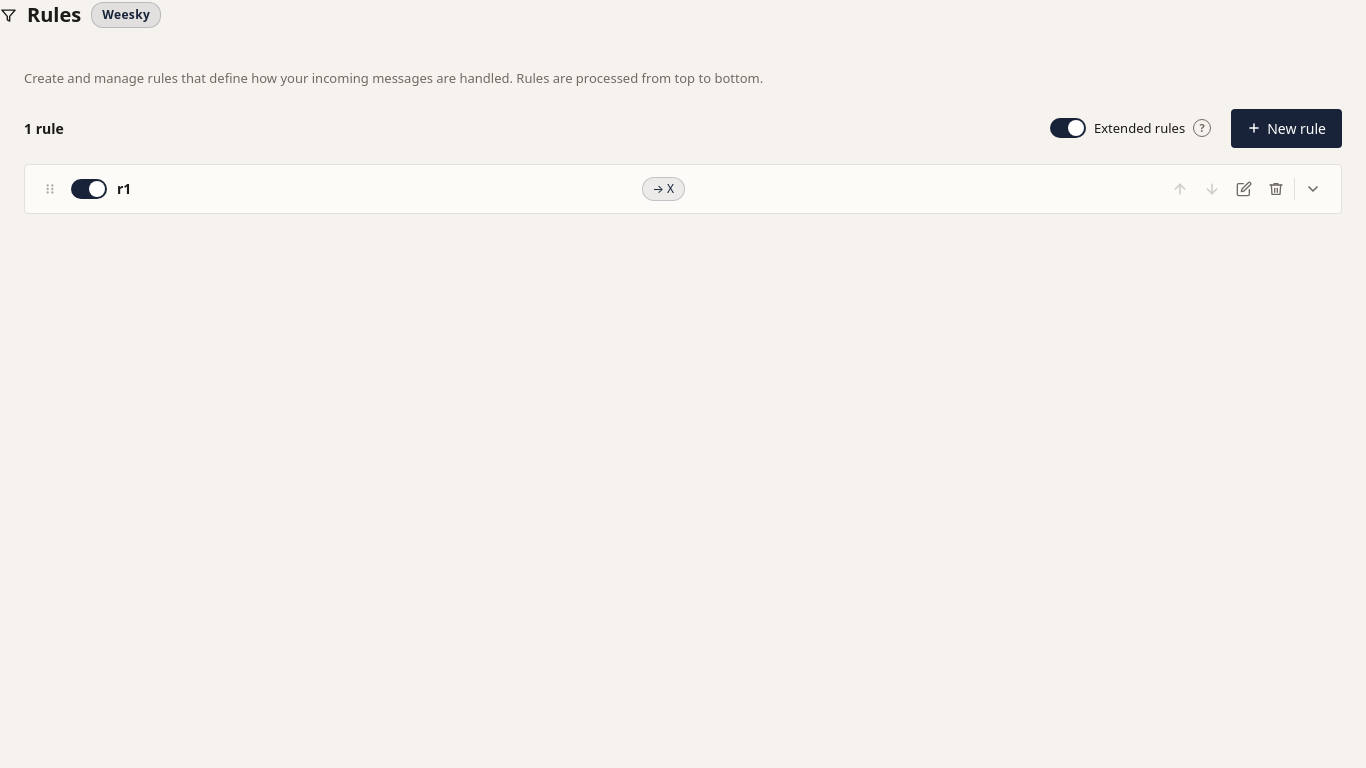
Extended rules slider › cancelling the conversion modal keeps the provider unchanged
The image size is (1366, 768).
Click the checkbox named "Extended rules" at (1068, 128), box x1=1050 y1=118 x2=1086 y2=138
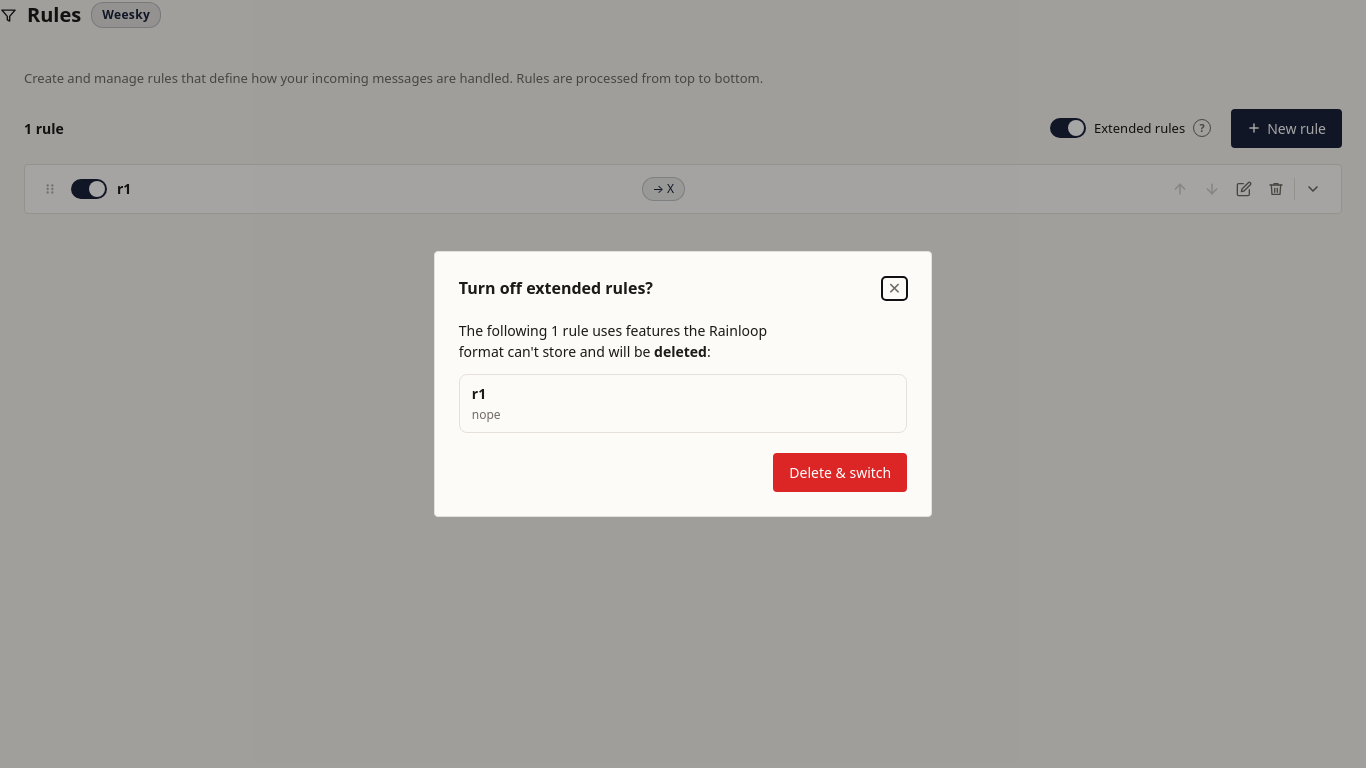
Click the button named "Close" at (894, 288), box x1=882 y1=276 x2=907 y2=300
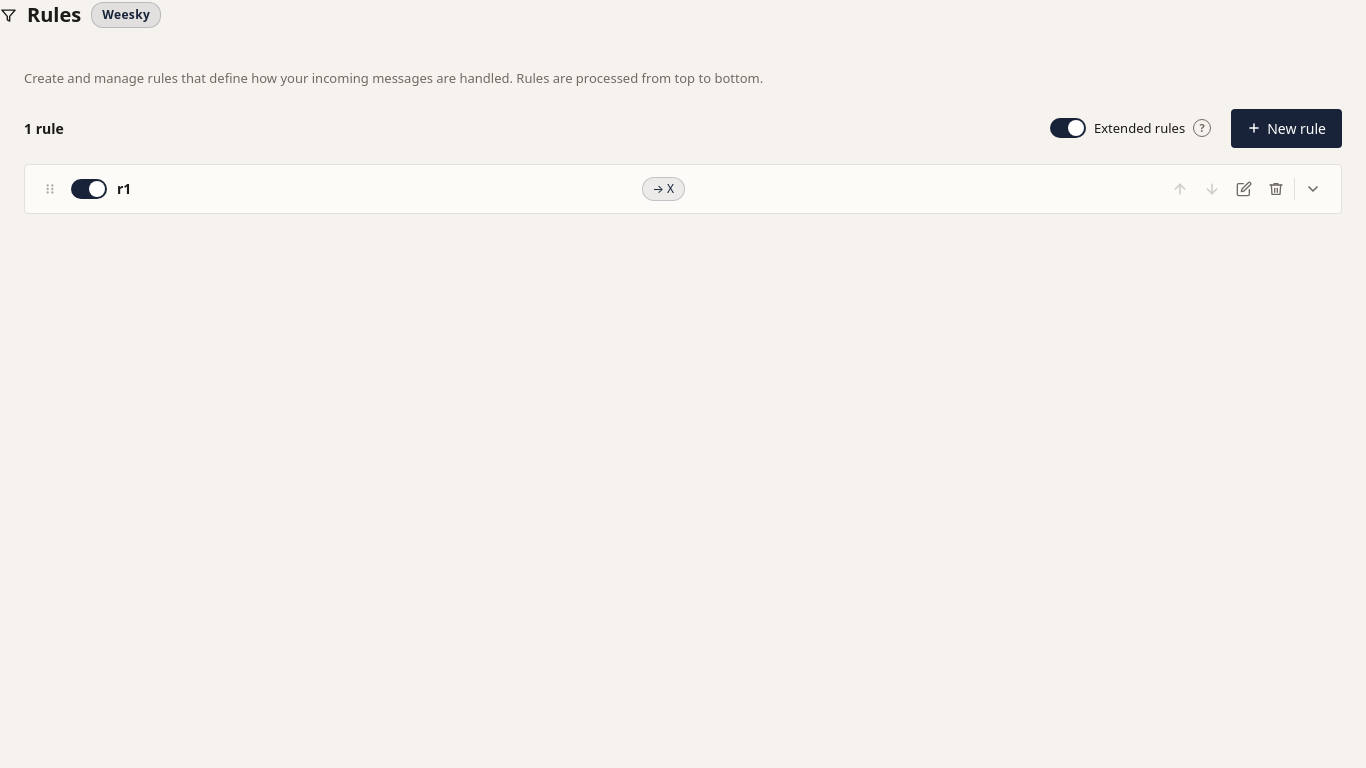
Now the text "Turn off extended rules?" is gone
